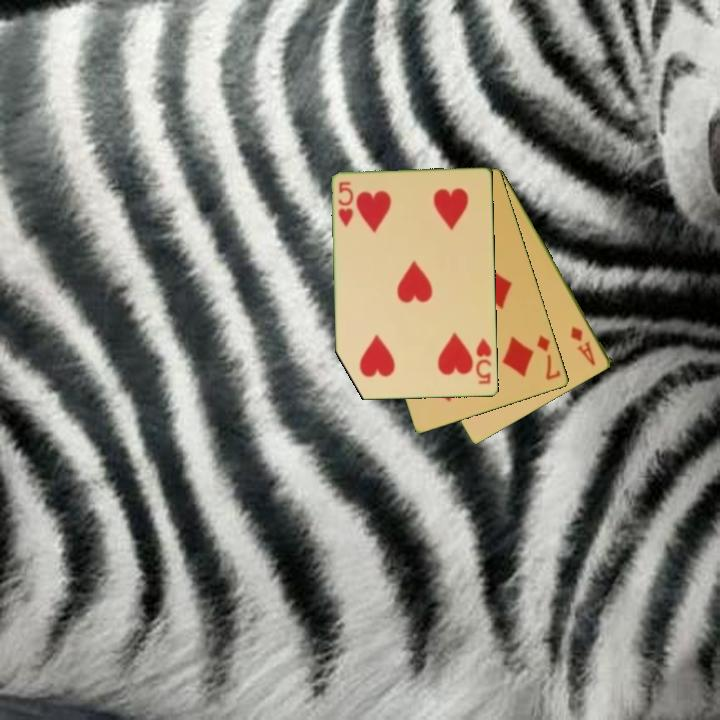5h: (472, 335, 495, 387), (335, 179, 357, 230)
7d: (533, 332, 564, 383)
Ad: (567, 323, 599, 369)
